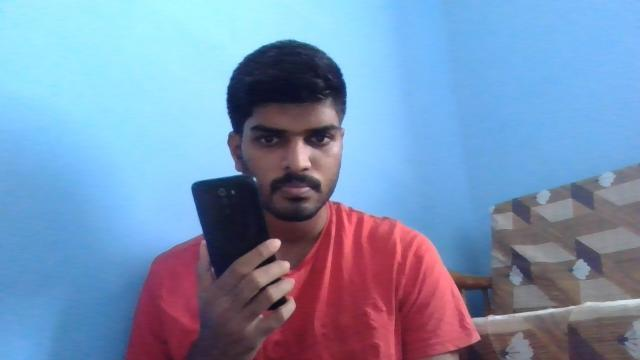PhoneUse: (189, 178, 273, 322)
SafeDriving: (248, 128, 292, 150), (302, 125, 340, 149)
